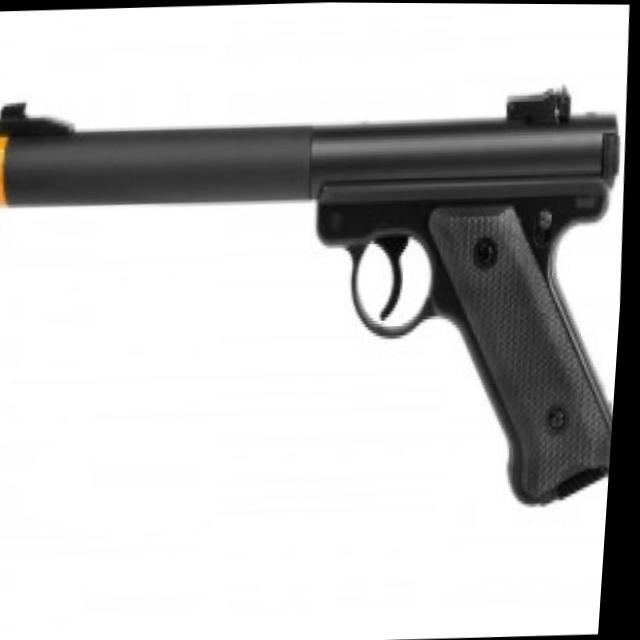weapon: (0, 72, 636, 522)
